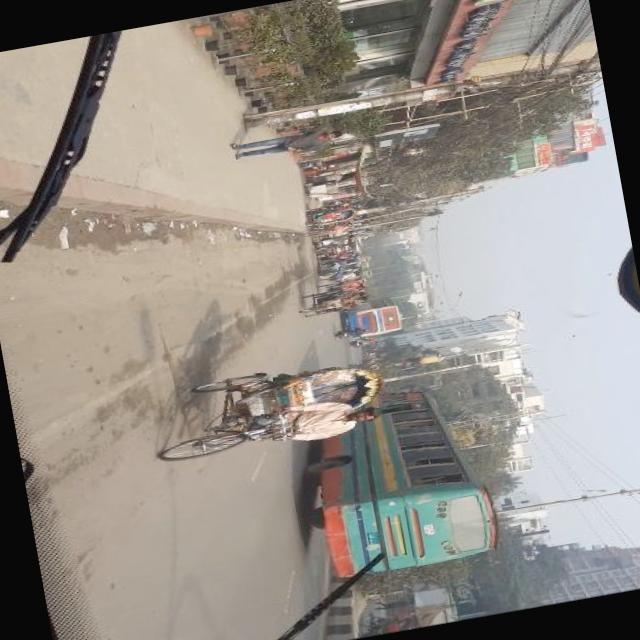bus: (292, 372, 510, 582), (338, 292, 407, 340), (362, 267, 374, 277), (362, 254, 372, 262), (362, 260, 372, 266)
motorcycle: (148, 348, 398, 466), (296, 280, 371, 318), (296, 200, 361, 239), (355, 605, 418, 636), (316, 275, 371, 301), (332, 320, 373, 340), (349, 333, 378, 347), (342, 254, 362, 270), (366, 358, 384, 371), (360, 348, 380, 359)
truck: (360, 246, 368, 255)
